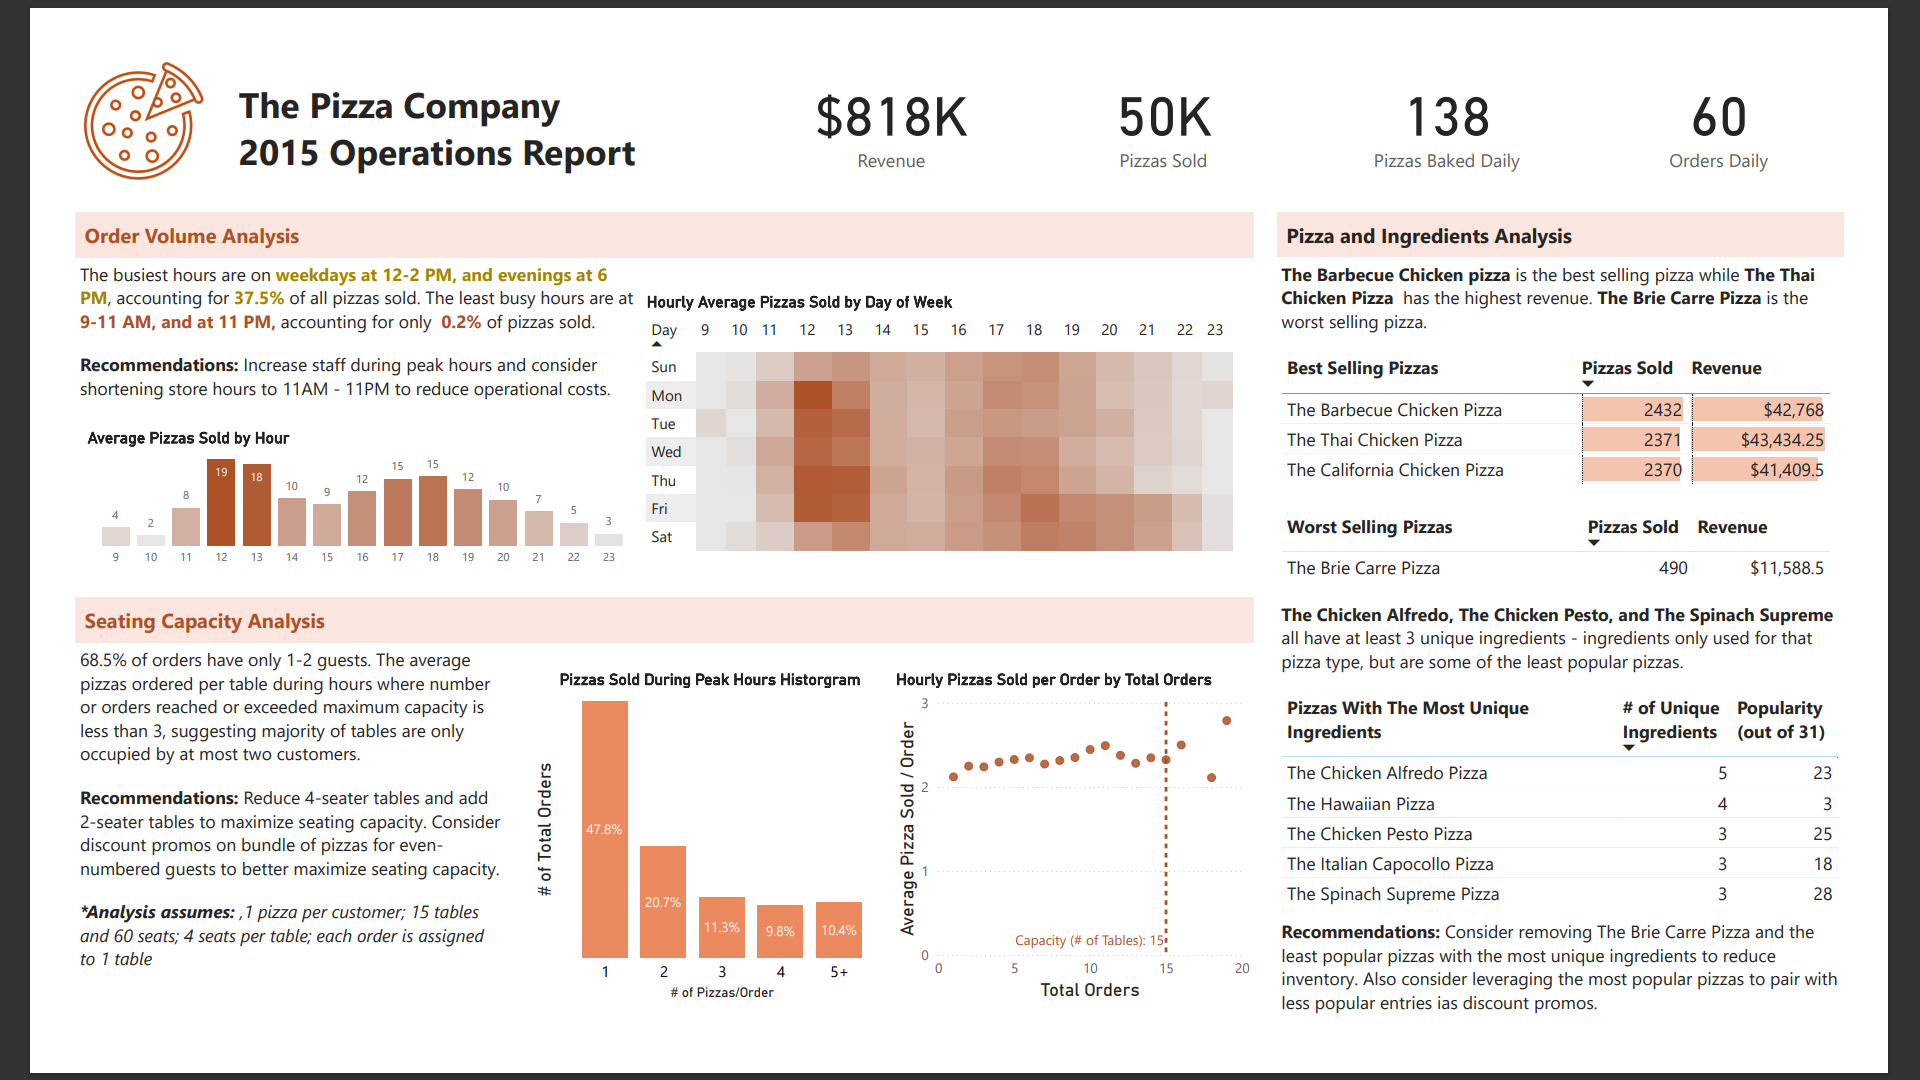

Layout of this report page (visuals, bound fields, positions):
{"tool":"powerbi","page":{"name":"Report","canvas":[1920,1080],"ordinal":0},"visuals":[{"type":"card","fields":{"Values":["order_details.Revenue"]},"box":[768,24,240,144],"z":0},{"type":"card","fields":{"Values":["order_details.Pizzas Sold"]},"box":[1032,24,288,144],"z":1000},{"type":"textbox","box":[24,648,456,360],"z":1000,"group":"g1"},{"type":"card","fields":{"Values":["order_details.Pizzas Sold per Day"]},"box":[1344,24,264,144],"z":2000},{"type":"columnChart","title":"Pizzas Sold During Peak Hours Historgram","fields":{"Category":["orders.Pizzas Ordered (groups)"],"Y":["Divide(Count(orders.order_id), ScopedEval(Count(orders.order_id), []))"]},"box":[504,672,384,360],"z":3000,"group":"g1"},{"type":"pivotTable","title":"Hourly Average Pizzas Sold by Day of Week","fields":{"Rows":["Calendar.Day of Week"],"Values":["order_details.Pizzas Sold per Day"],"Columns":["orders.hour"]},"box":[624,272,656,304],"z":3000},{"type":"card","fields":{"Values":["orders.Orders per Day"]},"box":[1632,24,264,144],"z":4000},{"type":"scatterChart","title":"Hourly Pizzas Sold per Order by Total Orders","fields":{"X":["hourly_data.Total Orders"],"Y":["hourly_data.Pizza Sold per Order"]},"box":[888,672,384,360],"z":5000,"group":"g1"},{"type":"tableEx","fields":{"Values":["pizza_types.name","order_details.Pizzas Sold","order_details.Revenue"]},"box":[1296,336,600,168],"z":5000},{"type":"columnChart","title":"Average Pizzas Sold by Hour","fields":{"Y":["order_details.Pizzas Sold per Day"],"Category":["orders.hour"]},"box":[32,416,592,160],"z":6000},{"type":"textbox","box":[24,240,600,168],"z":7000},{"type":"textbox","box":[24,600,1248,48],"z":8000,"group":"g1"},{"type":"textbox","box":[24,192,1248,48],"z":8000},{"type":"textbox","box":[1296,192,600,48],"z":9000},{"type":"textbox","box":[1296,600,600,96],"z":10000},{"type":"tableEx","fields":{"Values":["pizza_types.name","order_details.Pizzas Sold","order_details.Revenue"]},"box":[1296,504,600,96],"z":11000},{"type":"tableEx","fields":{"Values":["pizza_types.name","pizza_types.num_unique_ingredients","pizza_types.Popularity_Rank"]},"box":[1296,696,600,240],"z":12000},{"type":"textbox","box":[1296,240,600,96],"z":13000},{"type":"textbox","box":[192,48,528,120],"z":14000},{"type":"textbox","box":[1296,936,600,120],"z":15000},{"type":"image","box":[24,24,144,144],"z":16000},{"type":"group","id":"g1","title":"Group 1","box":[24,600,1248,432],"z":17000}]}

Visuals, with their boxes in screenshot pixels (x1, y1, x2, y2), scaled from the page's 1920x1080 canvas onto the 1920x1080 screenshot:
card - order_details.Revenue: [768, 24, 1008, 168]
card - order_details.Pizzas Sold: [1032, 24, 1320, 168]
textbox: [24, 648, 480, 1008]
card - order_details.Pizzas Sold per Day: [1344, 24, 1608, 168]
"Pizzas Sold During Peak Hours Historgram" columnChart: [504, 672, 888, 1032]
"Hourly Average Pizzas Sold by Day of Week" pivotTable: [624, 272, 1280, 576]
card - orders.Orders per Day: [1632, 24, 1896, 168]
"Hourly Pizzas Sold per Order by Total Orders" scatterChart: [888, 672, 1272, 1032]
tableEx - pizza_types.name x order_details.Pizzas Sold: [1296, 336, 1896, 504]
"Average Pizzas Sold by Hour" columnChart: [32, 416, 624, 576]
textbox: [24, 240, 624, 408]
textbox: [24, 600, 1272, 648]
textbox: [24, 192, 1272, 240]
textbox: [1296, 192, 1896, 240]
textbox: [1296, 600, 1896, 696]
tableEx - pizza_types.name x order_details.Pizzas Sold: [1296, 504, 1896, 600]
tableEx - pizza_types.name x pizza_types.num_unique_ingredients: [1296, 696, 1896, 936]
textbox: [1296, 240, 1896, 336]
textbox: [192, 48, 720, 168]
textbox: [1296, 936, 1896, 1056]
image: [24, 24, 168, 168]
"Group 1" group: [24, 600, 1272, 1032]
